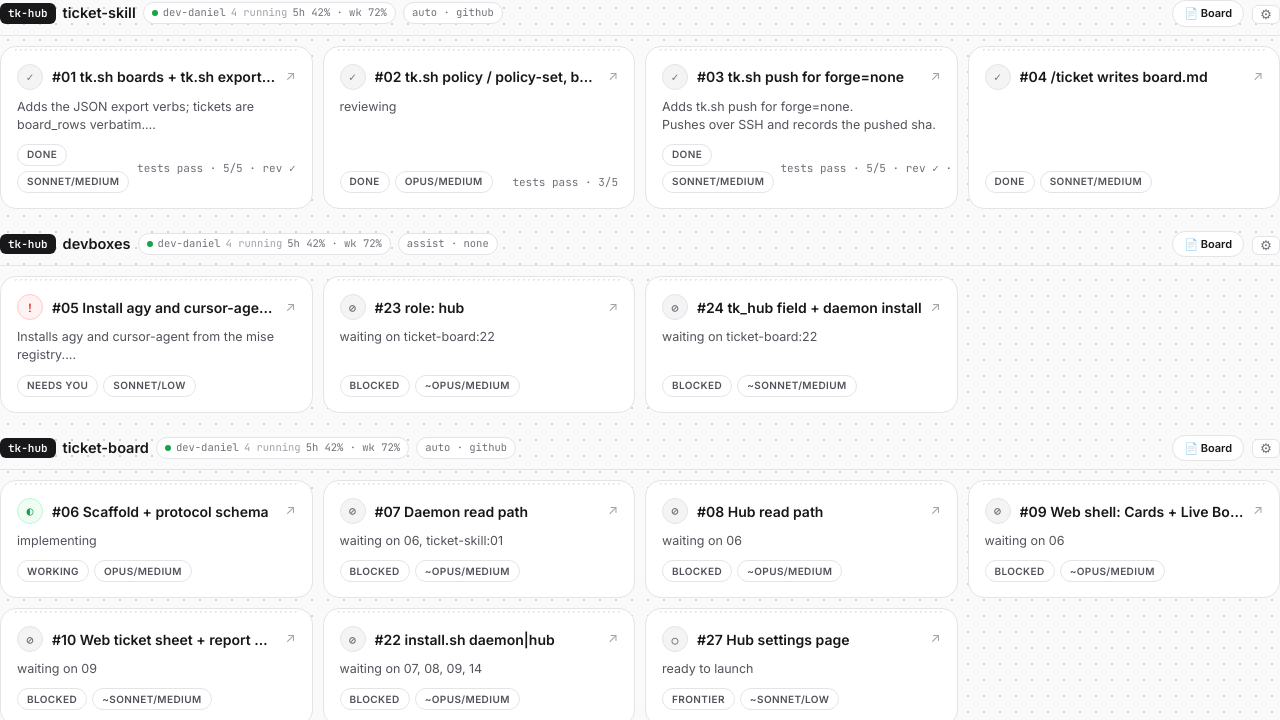
Test: Retro and sweep › Sweep is disabled until a retro has results
Click the 1st button "📄 Board": x=1208, y=13 [1172,0,1244,26]
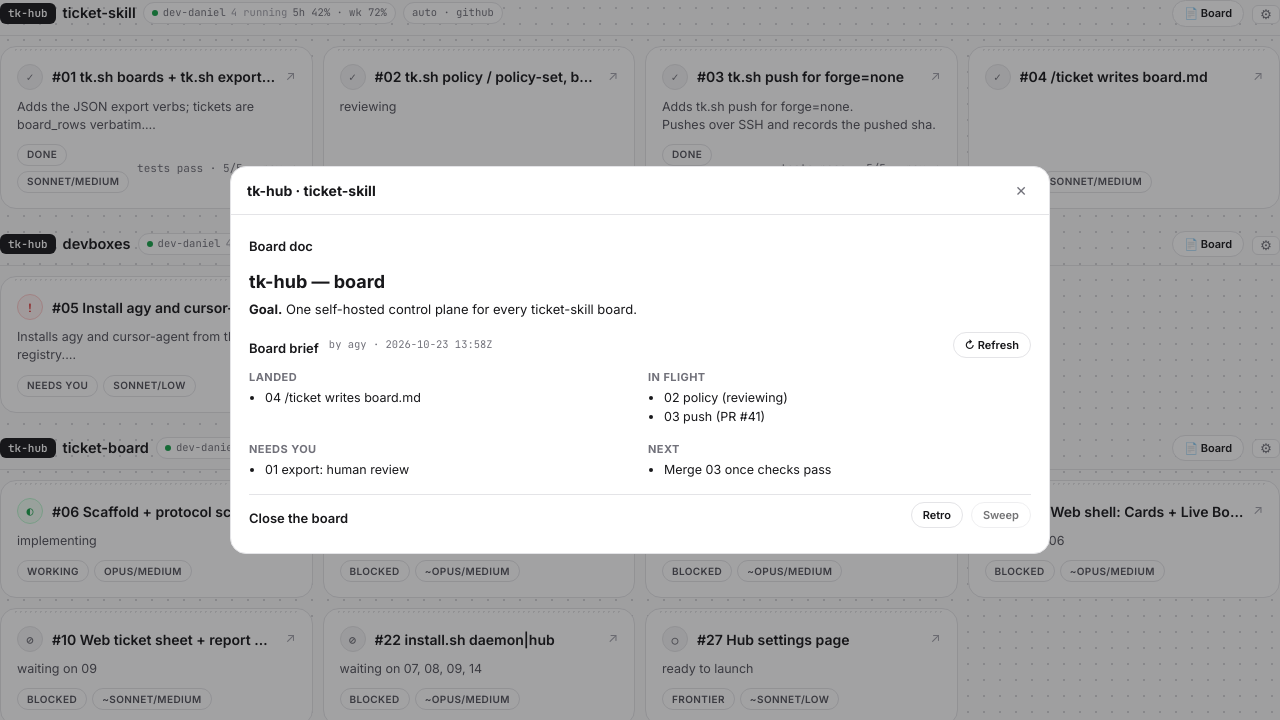
expect the button "Sweep" is disabled: met, box [971,502,1031,528]
